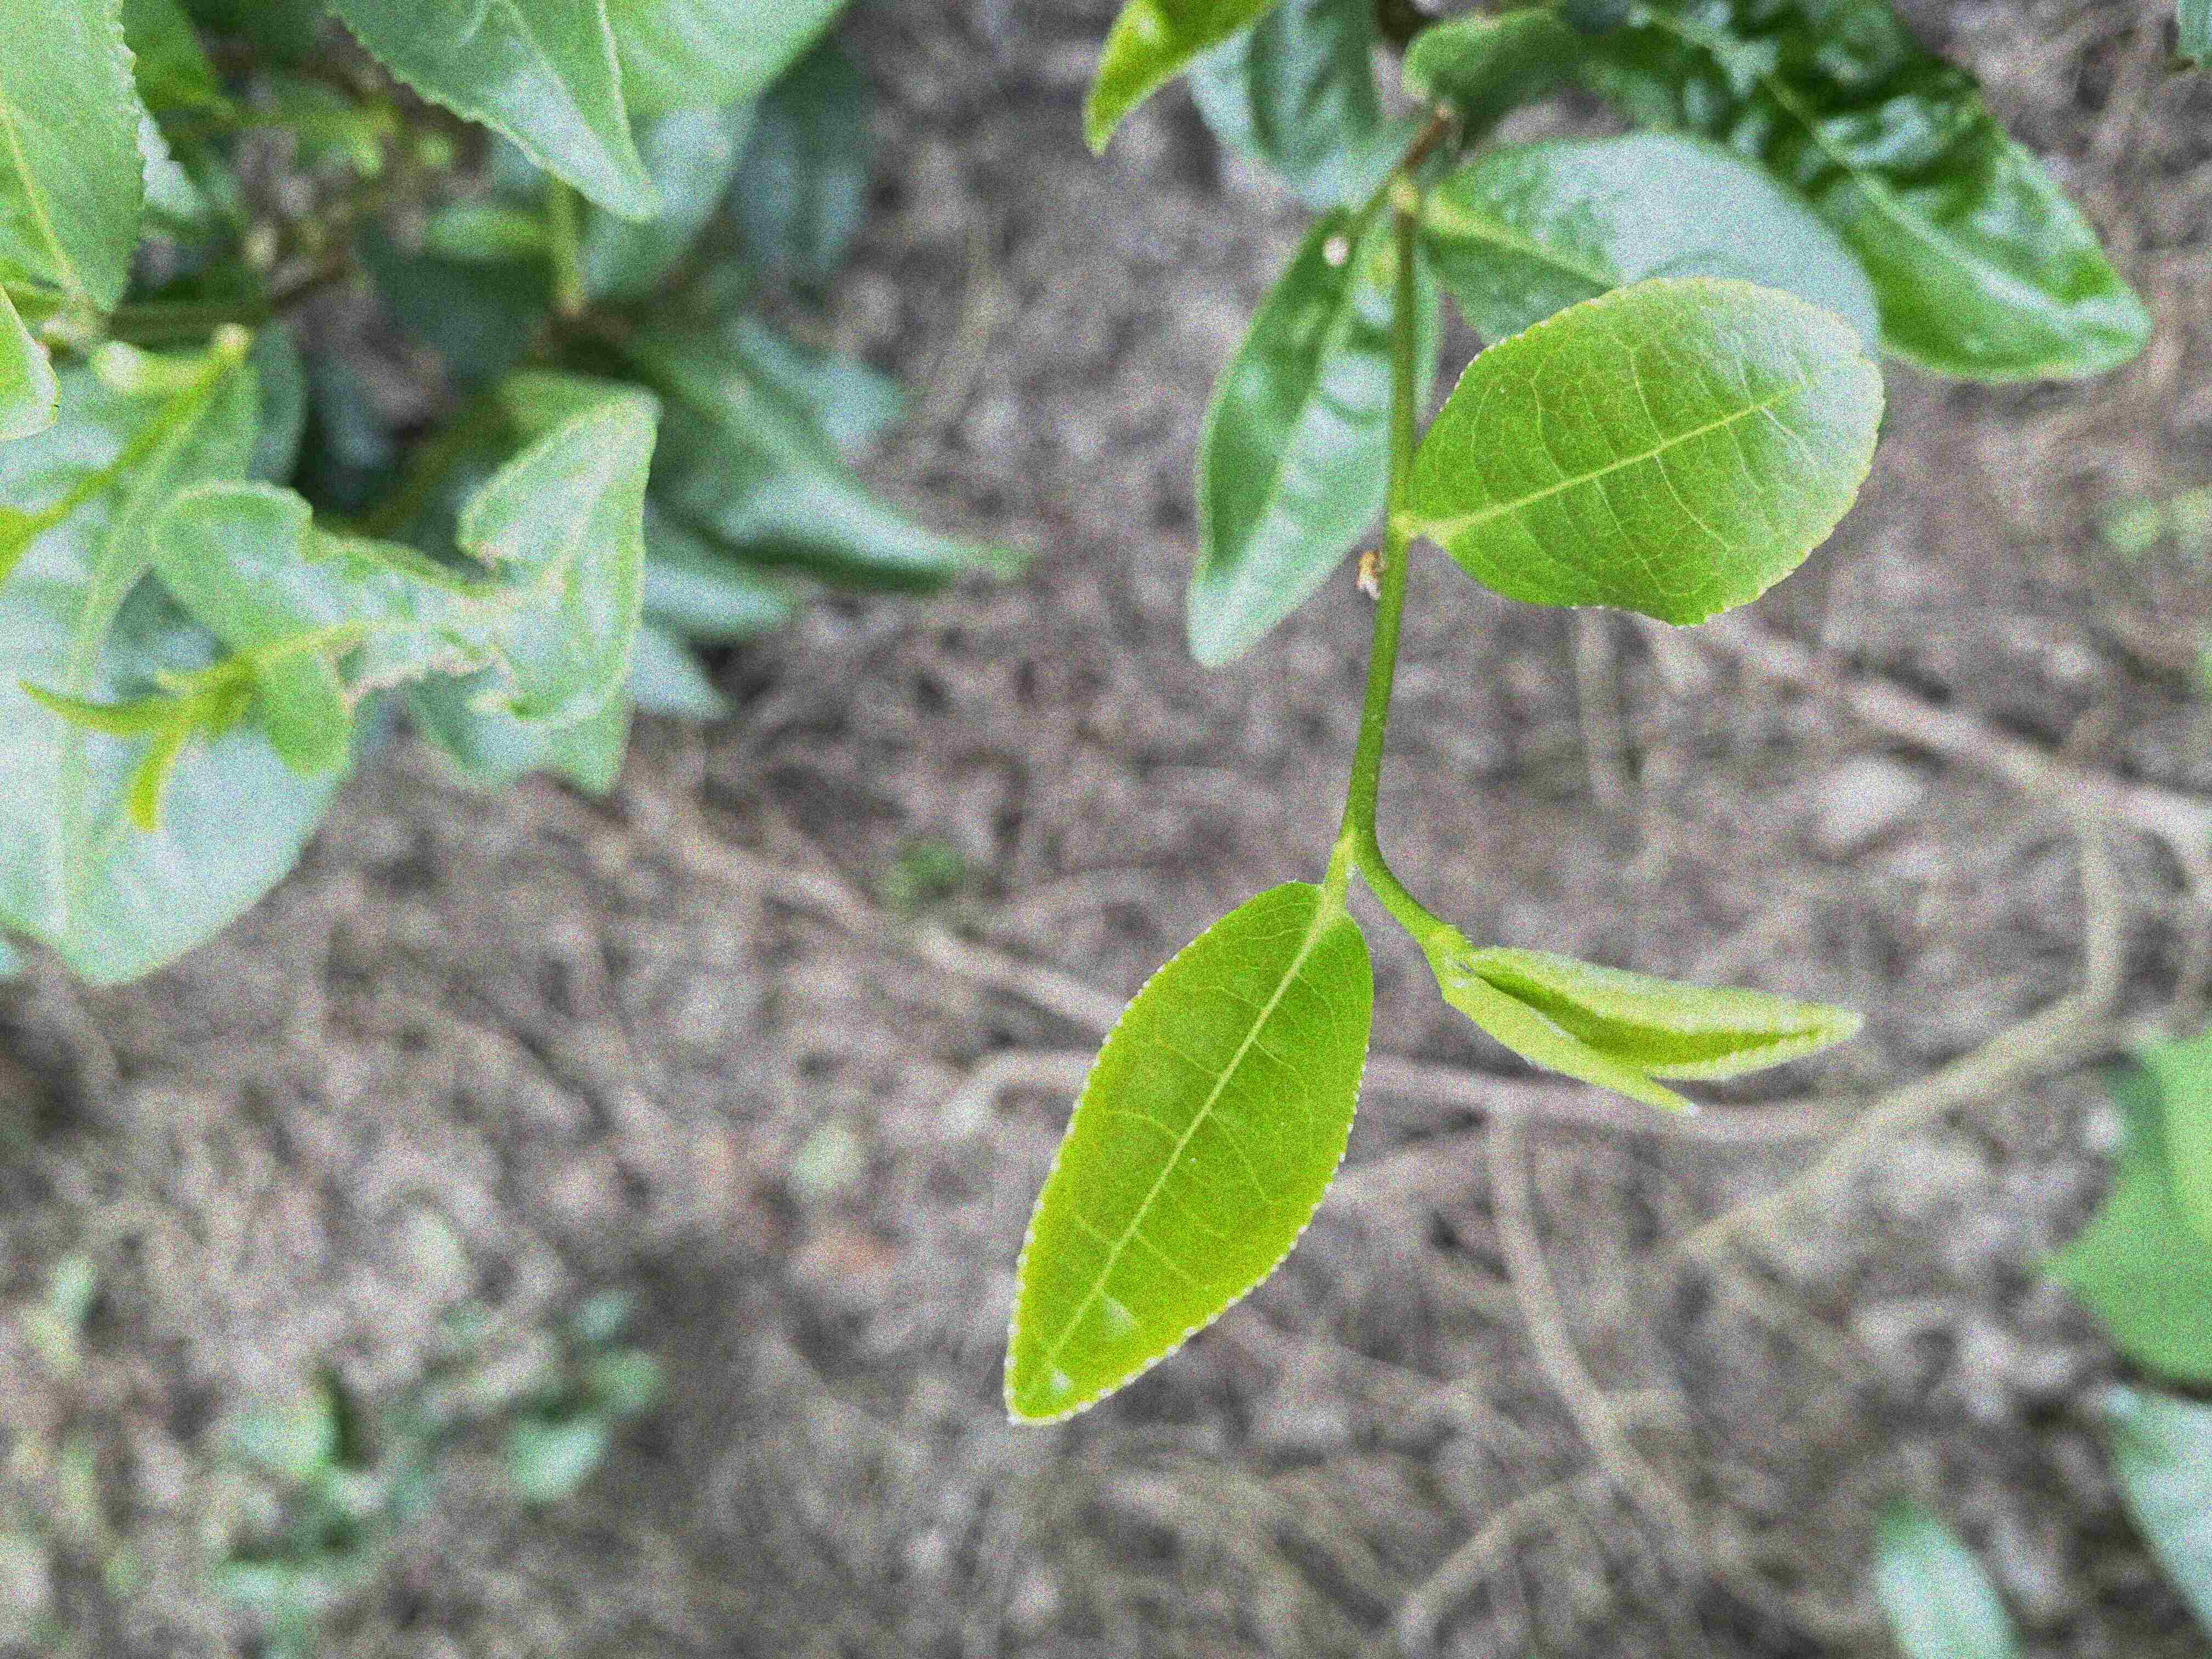chihuo_high: (145, 396, 660, 781)
healthy: (1003, 878, 1379, 1424), (1404, 275, 1886, 631)
